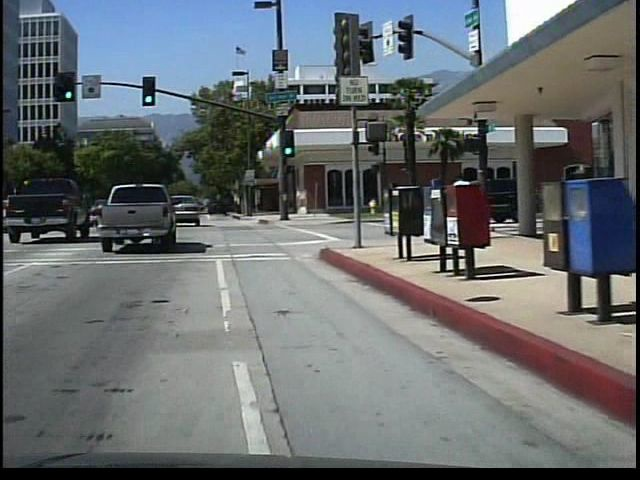person: (453, 169, 479, 241)
